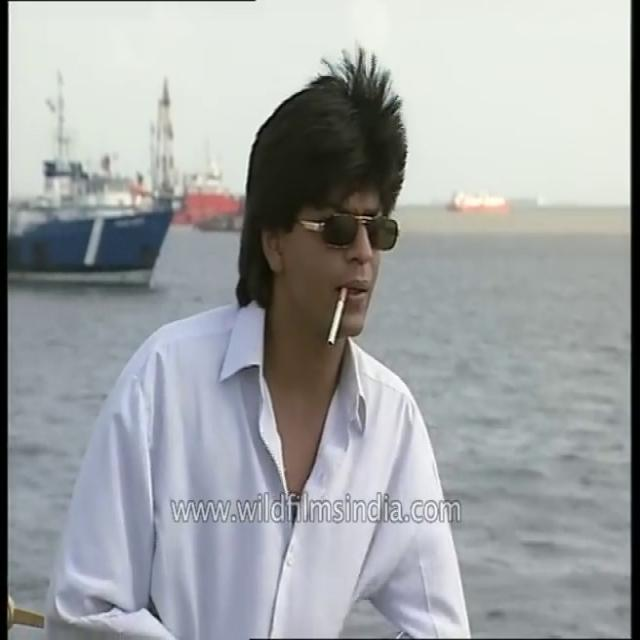Smooking: (321, 277, 353, 347)
